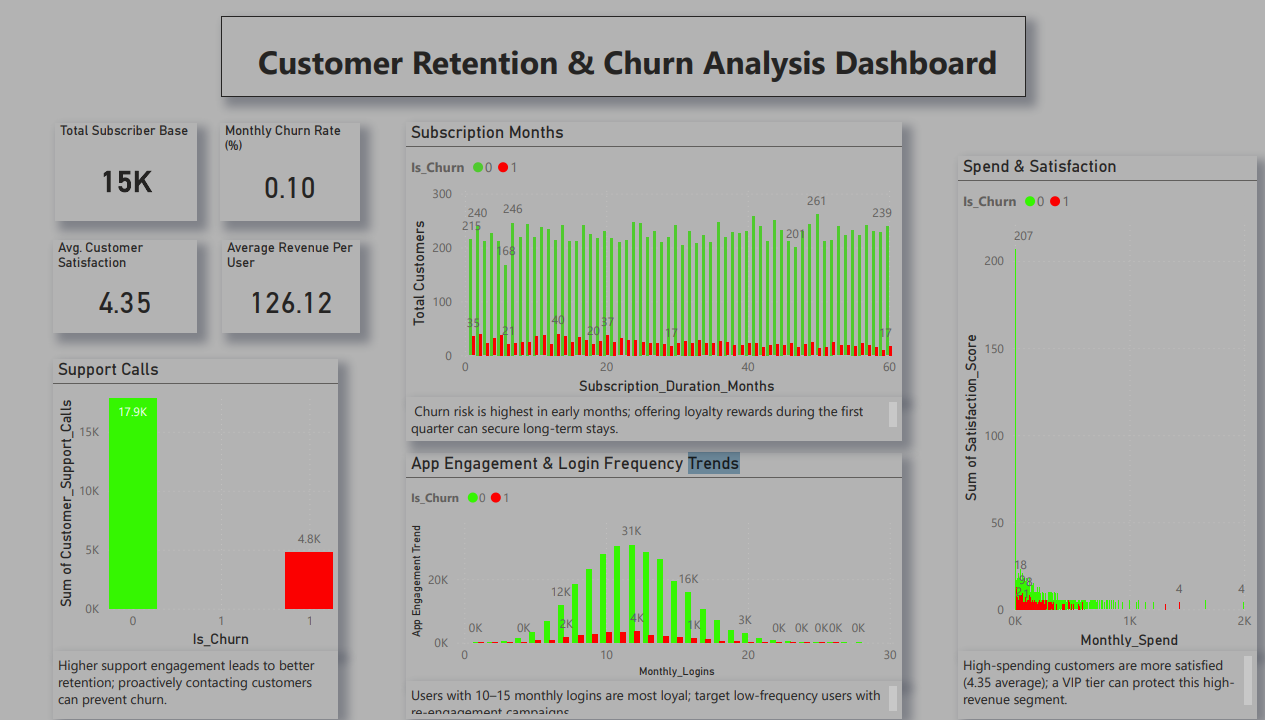

The page's visual inventory and layout, read from the dashboard file:
{"tool":"powerbi","page":{"name":"Page 1","canvas":[1280,720],"ordinal":0},"visuals":[{"type":"clusteredColumnChart","title":"Support Calls","fields":{"Category":["ecommerce_customer_churn_data.Is_Churn"],"Y":["Sum(ecommerce_customer_churn_data.Customer_Support_Calls)"]},"box":[54.2,359.3,284.7,291.5],"z":0},{"type":"clusteredColumnChart","title":"Subscription Months","fields":{"Series":["ecommerce_customer_churn_data.Is_Churn"],"Y":["ecommerce_customer_churn_data.Total Customers"],"Category":["ecommerce_customer_churn_data.Subscription_Duration_Months"]},"box":[406.8,122,496.6,274.6],"z":1000},{"type":"clusteredColumnChart","title":"Spend & Satisfaction","fields":{"Y":["Sum(ecommerce_customer_churn_data.Satisfaction_Score)"],"Category":["ecommerce_customer_churn_data.Monthly_Spend"],"Series":["ecommerce_customer_churn_data.Is_Churn"]},"box":[959.3,155.9,298.3,494.9],"z":2000},{"type":"clusteredColumnChart","title":"App Engagement & Login Frequency Trends","fields":{"Y":["Sum(ecommerce_customer_churn_data.App_Usage_Time_Min)"],"Category":["ecommerce_customer_churn_data.Monthly_Logins"],"Series":["ecommerce_customer_churn_data.Is_Churn"]},"box":[406.8,452.5,496.6,228.8],"z":3000},{"type":"textbox","box":[221.8,16.2,804.8,81],"z":4000},{"type":"card","title":"Total Subscriber Base","fields":{"Values":["ecommerce_customer_churn_data.Total Customers"]},"box":[56.1,122.8,142.1,98.2],"z":5000},{"type":"card","title":"Monthly Churn Rate (%)","fields":{"Values":["ecommerce_customer_churn_data.Churnt Rate"]},"box":[221.1,122.8,140.4,98.2],"z":6000},{"type":"card","title":"Avg. Customer Satisfaction","fields":{"Values":["ecommerce_customer_churn_data.Avg Satisfaction"]},"box":[54.4,240.4,143.9,93],"z":7000},{"type":"card","title":"Average Revenue Per User","fields":{"Values":["ecommerce_customer_churn_data.Avg Monthly Spend"]},"box":[222.8,240.4,138.6,93],"z":8000},{"type":"textbox","box":[406.8,396.6,496.6,44.1],"z":8002},{"type":"textbox","box":[406.8,681.4,496.6,37.3],"z":8003},{"type":"textbox","box":[959.3,650.8,298.3,67.8],"z":8004},{"type":"textbox","box":[54.2,650.8,284.7,67.8],"z":8006}]}

Visuals, with their boxes in screenshot pixels (x1, y1, x2, y2), scaled from the page's 1280x720 canvas onto the 1265x722 screenshot:
"Support Calls" clusteredColumnChart: rect(54, 360, 335, 653)
"Subscription Months" clusteredColumnChart: rect(402, 122, 893, 398)
"Spend & Satisfaction" clusteredColumnChart: rect(948, 156, 1243, 653)
"App Engagement & Login Frequency Trends" clusteredColumnChart: rect(402, 454, 893, 683)
textbox: rect(219, 16, 1015, 97)
"Total Subscriber Base" card: rect(55, 123, 196, 222)
"Monthly Churn Rate (%)" card: rect(219, 123, 357, 222)
"Avg. Customer Satisfaction" card: rect(54, 241, 196, 334)
"Average Revenue Per User" card: rect(220, 241, 357, 334)
textbox: rect(402, 398, 893, 442)
textbox: rect(402, 683, 893, 721)
textbox: rect(948, 653, 1243, 721)
textbox: rect(54, 653, 335, 721)
